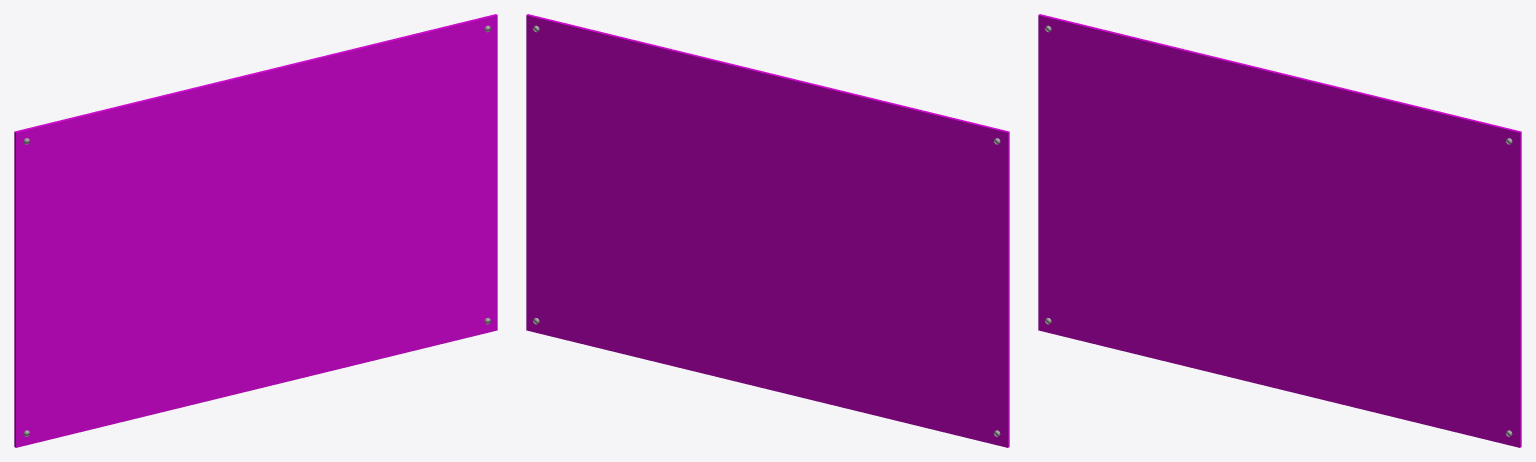
The model's file is cuadro_01_low.fbx.
3 views of the same model, side by side, from view 1: azimuth 30°, elevation 25°; view 2: azimuth 150°, elevation 25°; view 3: azimuth 330°, elevation 25° (orthographic).
Parts seen in each view (by area): view 1: Cuadro; view 2: Cuadro; view 3: Cuadro.
Boxes of the visible parts, <box> form: Cuadro: <box>14,14,497,447</box>; Cuadro: <box>526,14,1009,447</box>; Cuadro: <box>1038,14,1521,447</box>.
Bounding box in the file's own units: 160 × 100 × 2.
